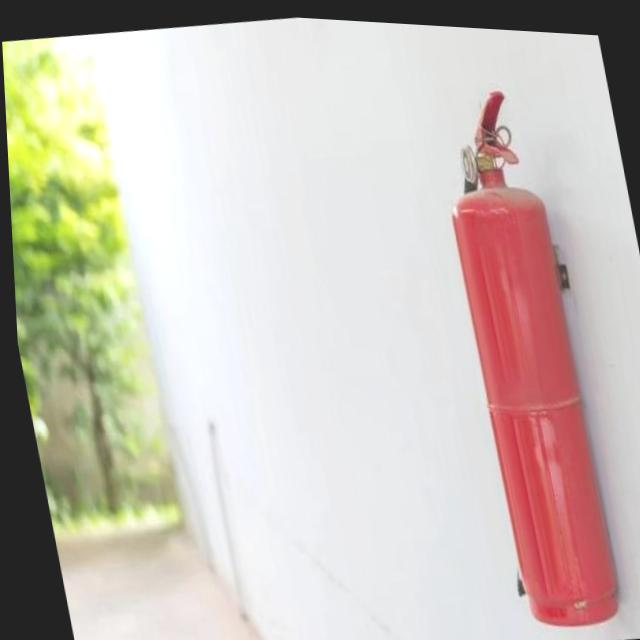FireExtinguisher: (421, 69, 630, 631)
